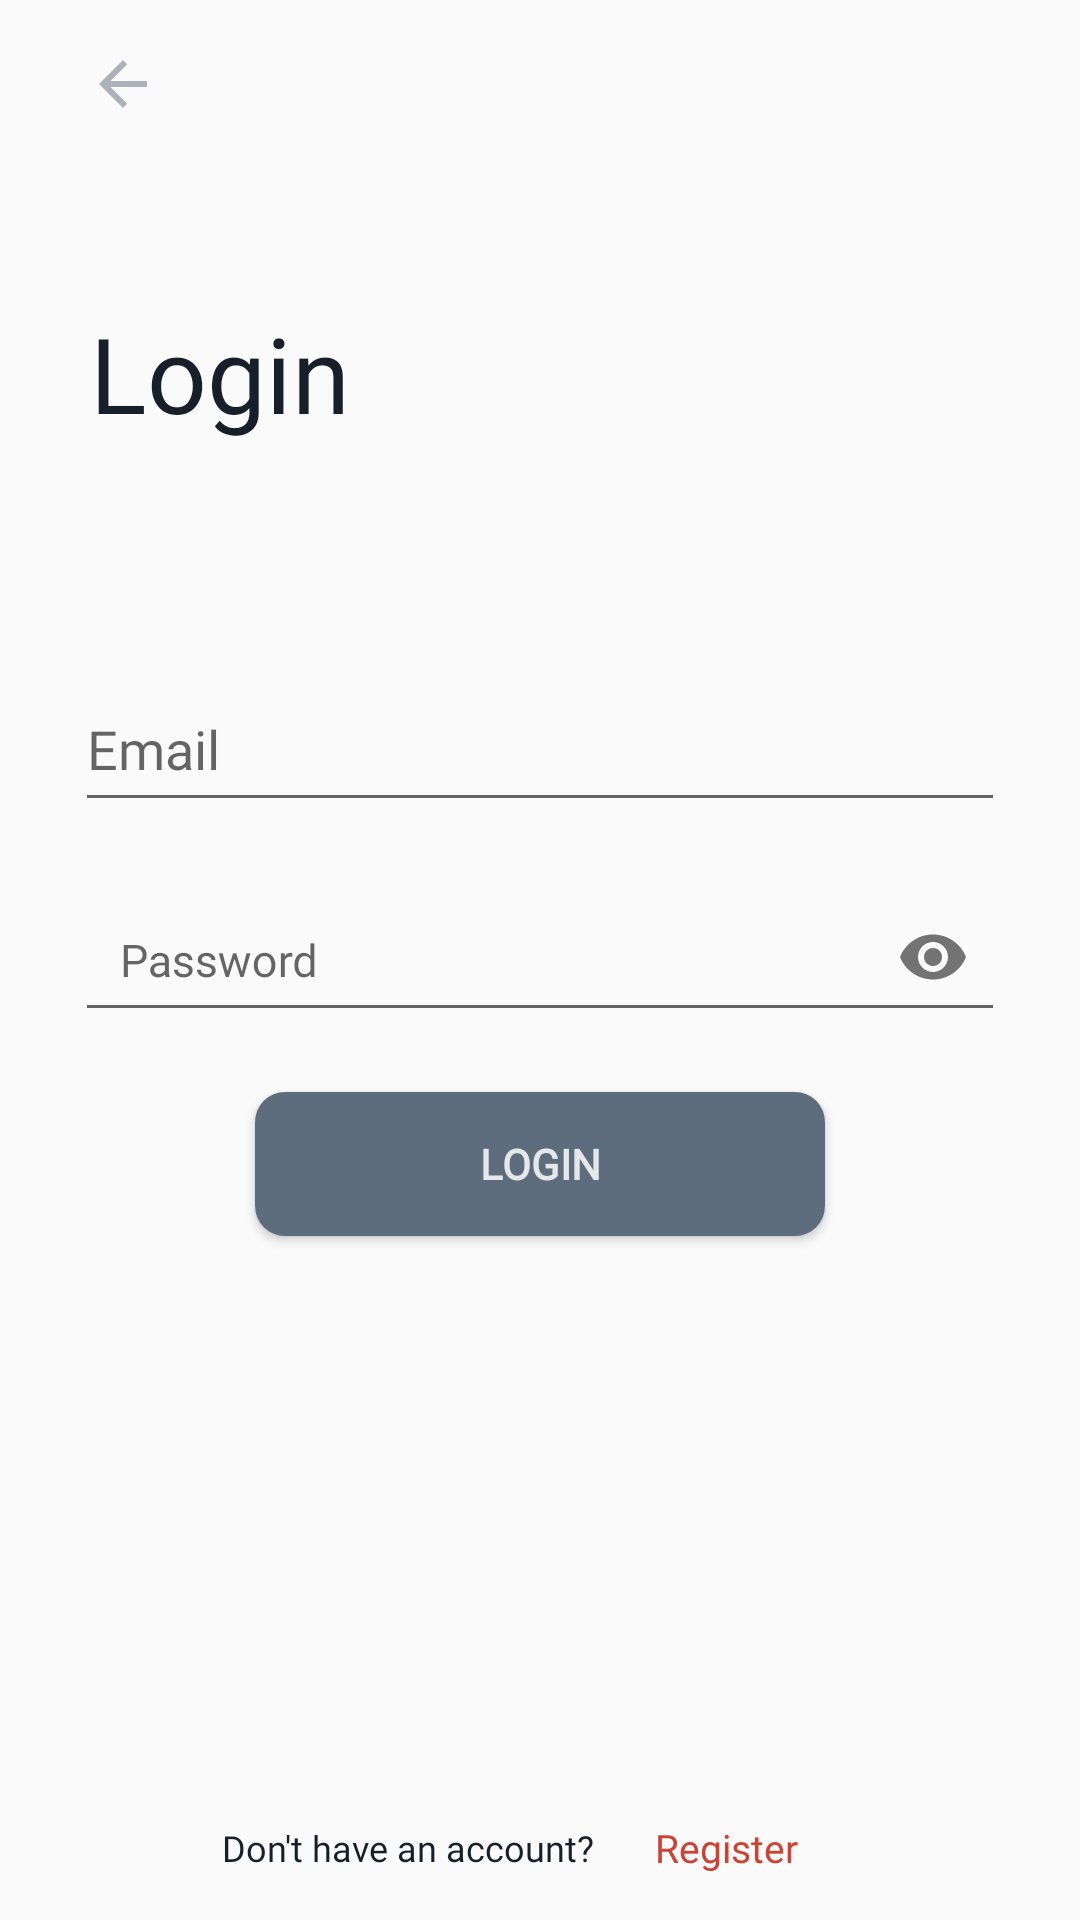

Icon bounding boxes for this 1080×1920 phone screenshot, format {"x1": x1, "y1": y1, "x2": x2, "y2": y2}:
back: {"x1": 99, "y1": 60, "x2": 147, "y2": 108}
